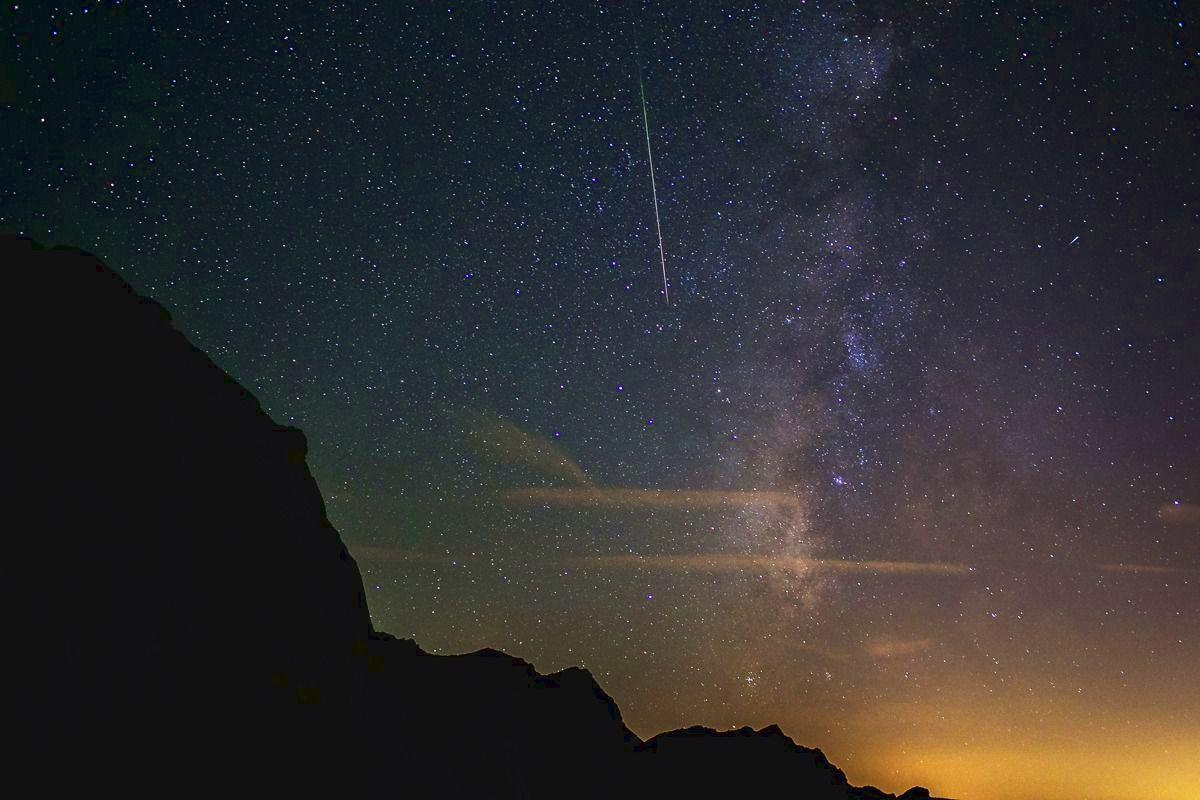meteorite: (617, 79, 711, 329), (1052, 212, 1082, 249)
